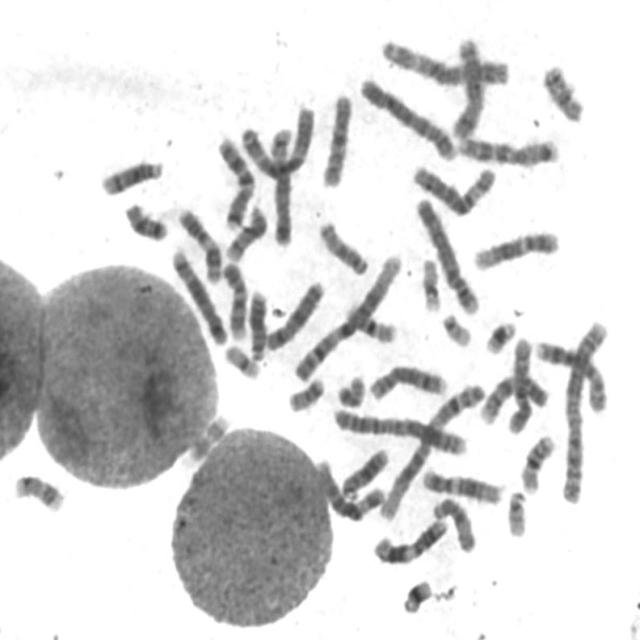A1: (374, 375, 488, 523), (289, 247, 406, 384)
A2: (556, 313, 612, 507), (328, 402, 470, 458)
A3: (376, 31, 513, 88), (236, 97, 318, 181)
B4: (356, 70, 460, 162), (411, 190, 482, 316)
B5: (167, 242, 230, 348), (266, 121, 296, 247)
C10: (316, 86, 356, 190), (504, 330, 536, 436)
C11: (368, 512, 451, 566), (173, 201, 225, 285)
C12: (469, 222, 563, 272), (418, 463, 506, 506)
C6: (409, 157, 499, 218), (312, 454, 389, 524)
C7: (212, 130, 257, 232), (452, 128, 562, 168)
C8: (531, 333, 611, 415), (365, 357, 450, 402)
C9: (475, 367, 553, 426), (218, 256, 251, 342)
D13: (337, 442, 392, 502), (244, 284, 270, 363)
D14: (96, 152, 166, 198), (221, 200, 271, 262)
D15: (314, 214, 372, 277), (428, 491, 479, 555)
E16: (339, 294, 401, 344), (516, 428, 558, 495)
E17: (183, 408, 232, 464), (10, 468, 67, 514)
E18: (538, 58, 588, 124), (120, 196, 171, 242)
F19: (220, 339, 262, 381), (417, 252, 444, 313)
F20: (284, 371, 327, 414), (333, 368, 368, 409)
G21: (480, 314, 519, 356), (398, 573, 434, 615)
G22: (438, 307, 474, 348), (503, 484, 530, 538)
X: (260, 275, 327, 352), (447, 31, 486, 140)
